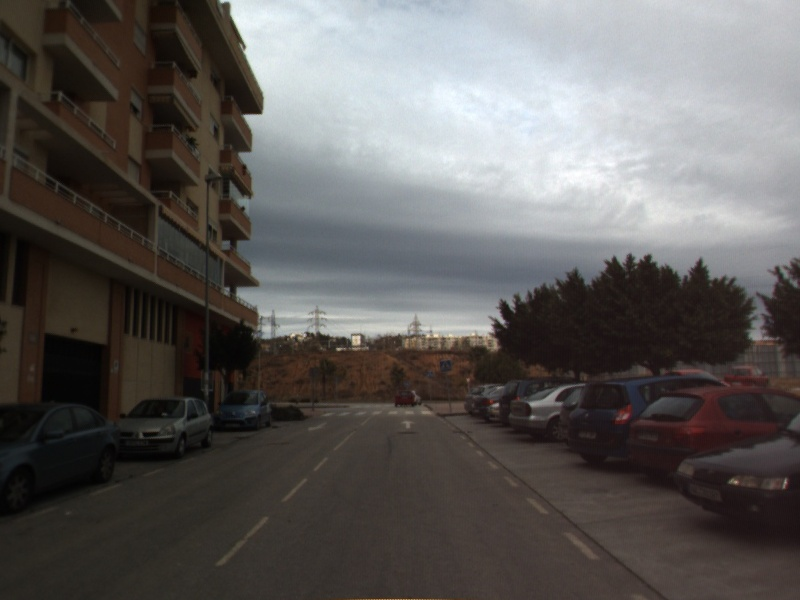STRAIGHT: (398, 418, 418, 431)
